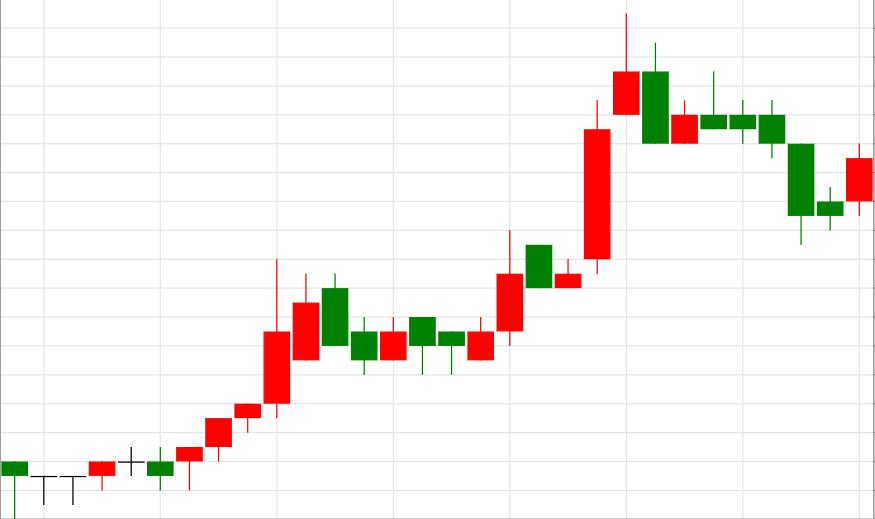shooting_star_fall: (438, 14, 640, 373)
